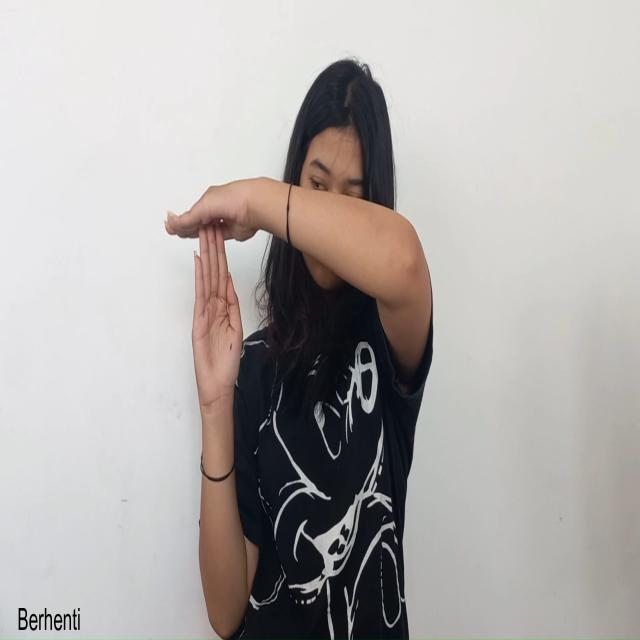Berhenti -BISINDO-: (161, 172, 275, 431)
